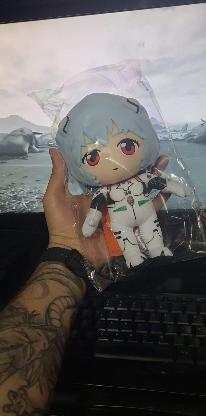rei-plush: (48, 85, 184, 269)
